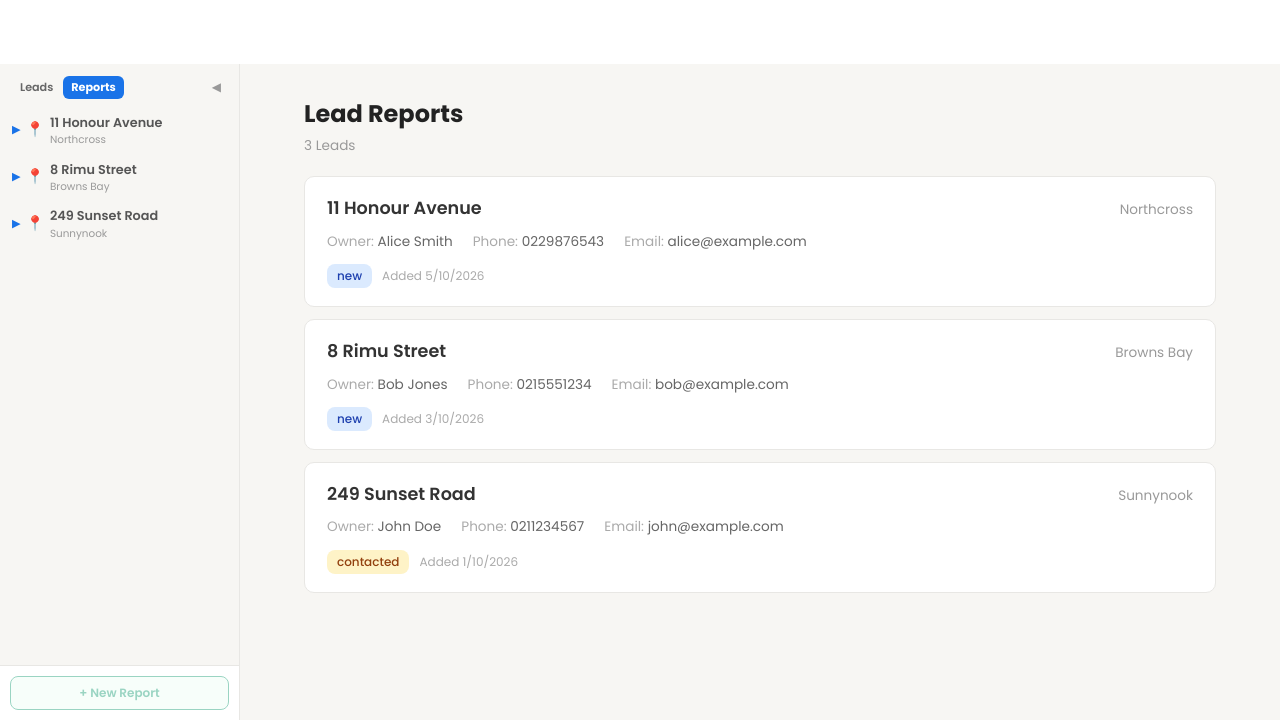
Test case: LeadReportsView › opens the generate modal from the empty state Create first report button
Click the element with test id "home-lead-item" that starts with "11 Honour Avenue".
click(760, 242)  # box [304,176,1216,307]
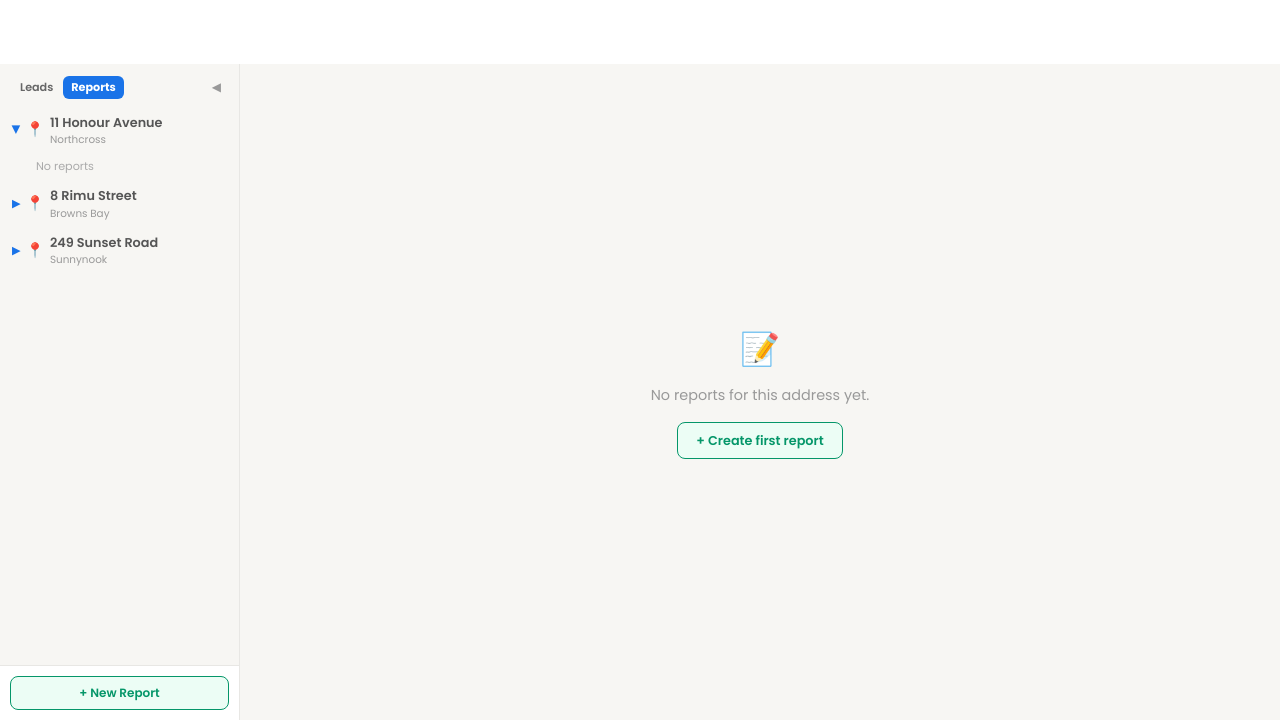
Expected: the text "No reports for this address yet." is shown, [651,385,869,406]
Click the button "+ Create first report".
click(760, 441)  # box [677,422,843,459]
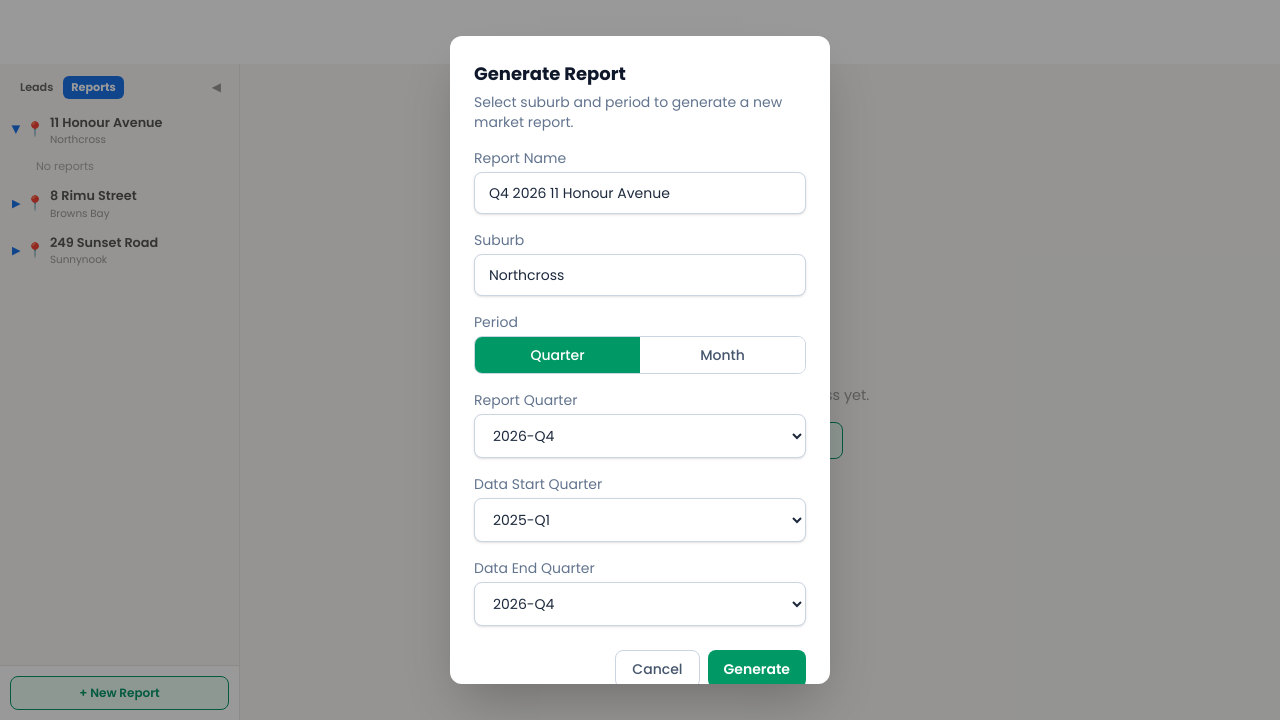
Expected: the element with test id "generate-report-modal" is shown
Expected: the field with test id "gen-suburb-input" holds "Northcross", [474,254,806,296]
